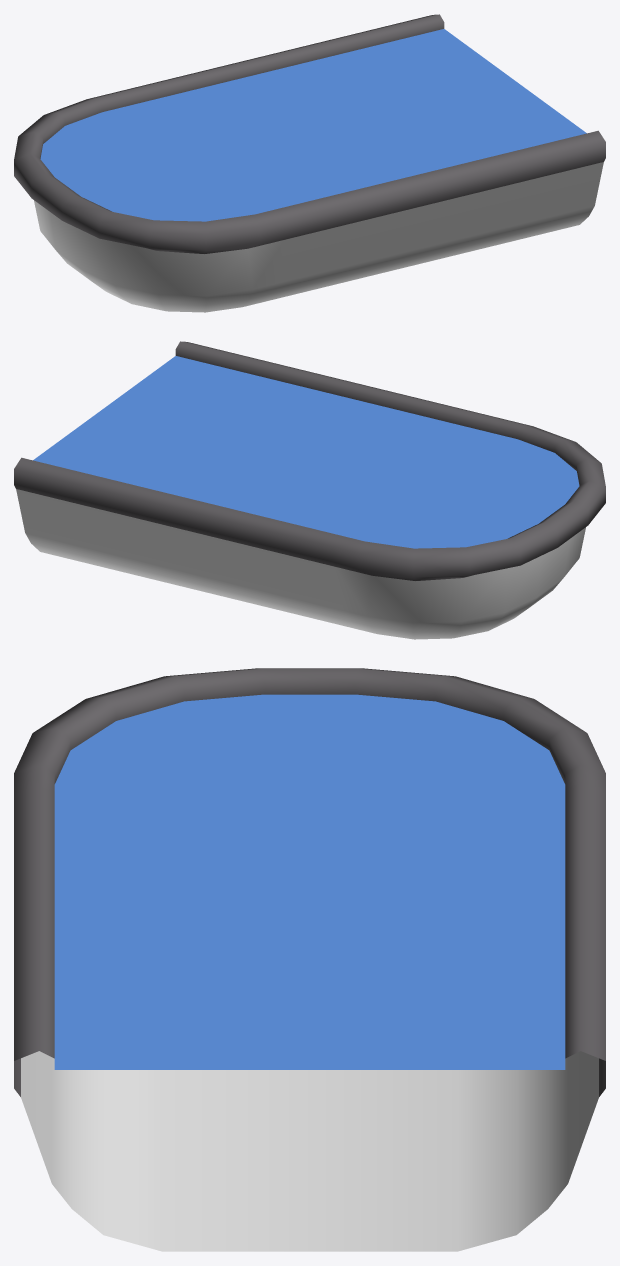
The model's file is Platform_balcony_large.fbx.
3 views of the same model, one above another, from view 1: azimuth 30°, elevation 25°; view 2: azimuth 150°, elevation 25°; view 3: azimuth 270°, elevation 25° (orthographic). The views are drawn at different scales.
Visible parts, largest first — view 1: Cube.069; view 2: Cube.069; view 3: Cube.069.
Boxes of the visible parts, left/top/right/bottom form: Cube.069: left=14, top=14, right=605, bottom=312; Cube.069: left=14, top=341, right=605, bottom=639; Cube.069: left=14, top=668, right=605, bottom=1251.
Bounding box in the file's own units: 286 × 68.07 × 182.
